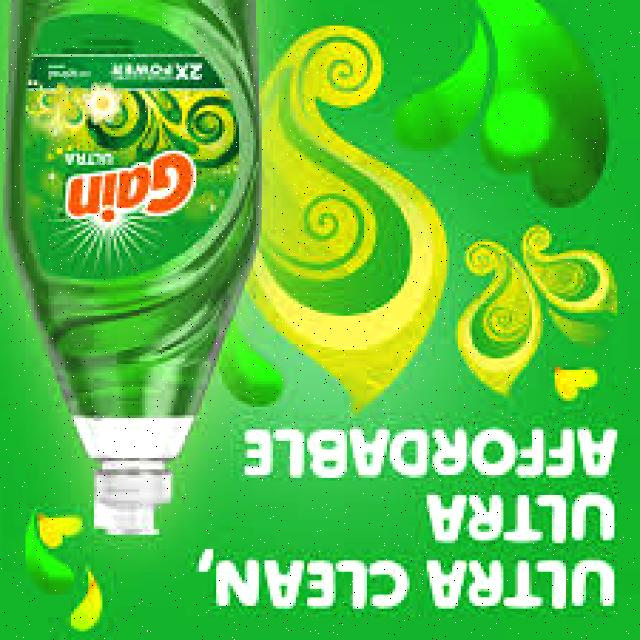liquid soap: (0, 0, 256, 546)
